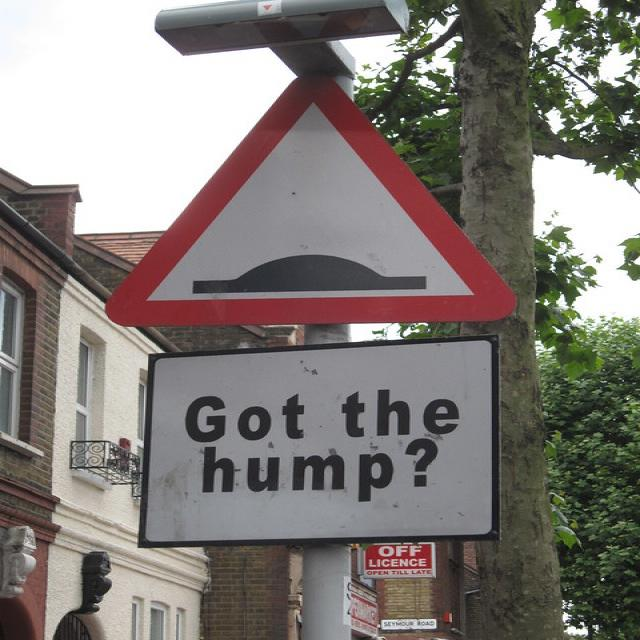hump: (103, 69, 525, 331)
